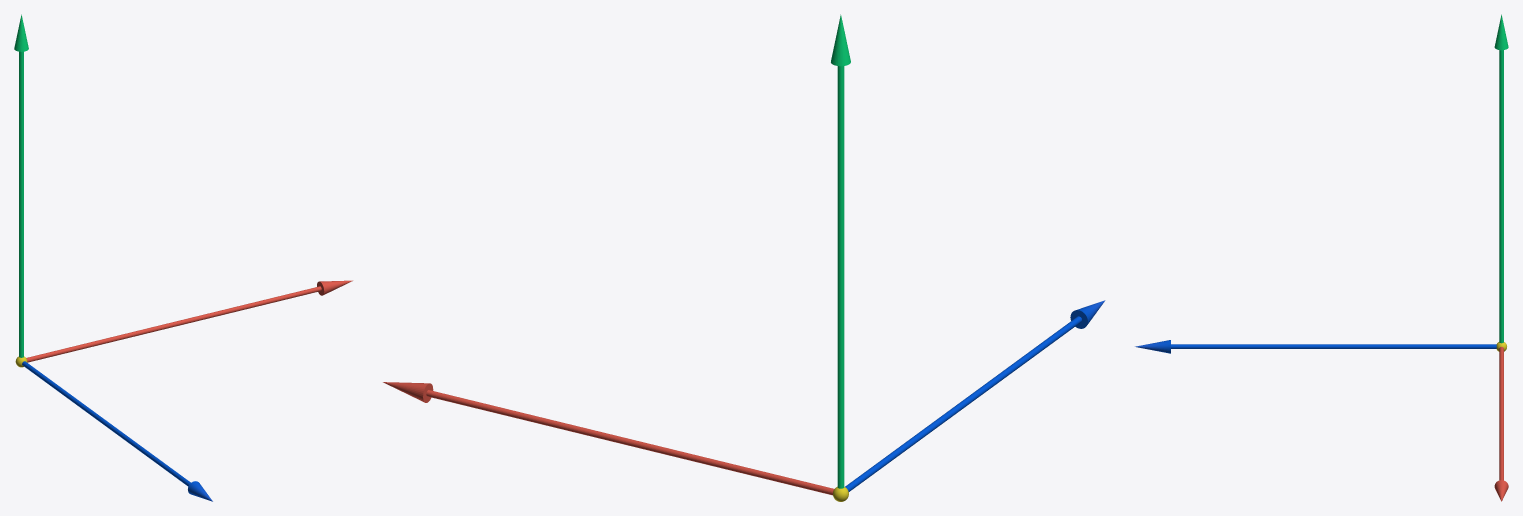
The model's file is axis.obj.
3 views of the same model, side by side, from view 1: azimuth 30°, elevation 25°; view 2: azimuth 150°, elevation 25°; view 3: azimuth 270°, elevation 25° (orthographic). The views are drawn at different scales.
Parts seen in each view (by area): view 1: Cone; view 2: Cone; view 3: Cone.
Part boxes in pixels (bbox=[...]): Cone: bbox=[14, 14, 352, 501]; Cone: bbox=[383, 14, 1105, 501]; Cone: bbox=[1135, 14, 1508, 501].
Bounding box in the file's own units: 2.04 × 2.04 × 2.04.
